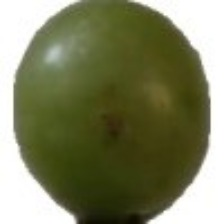grapes: (13, 4, 189, 204)
